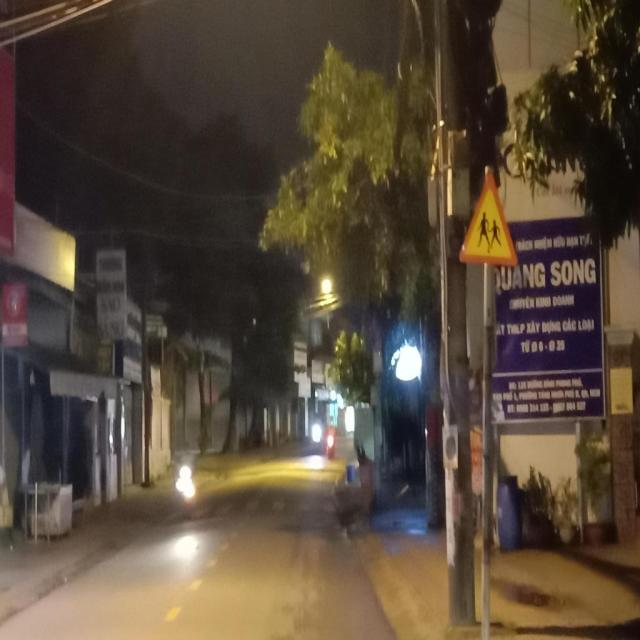chu_y_tre_em: (457, 166, 519, 265)
